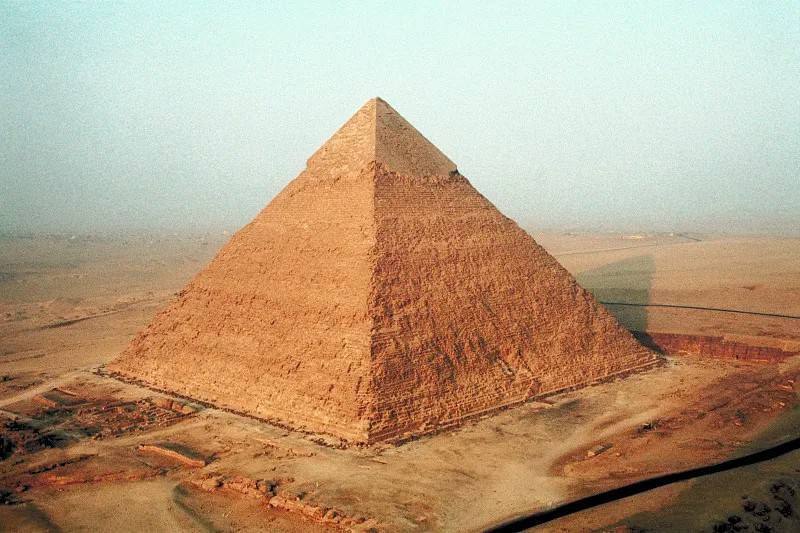Pyramid: (108, 98, 664, 441)
